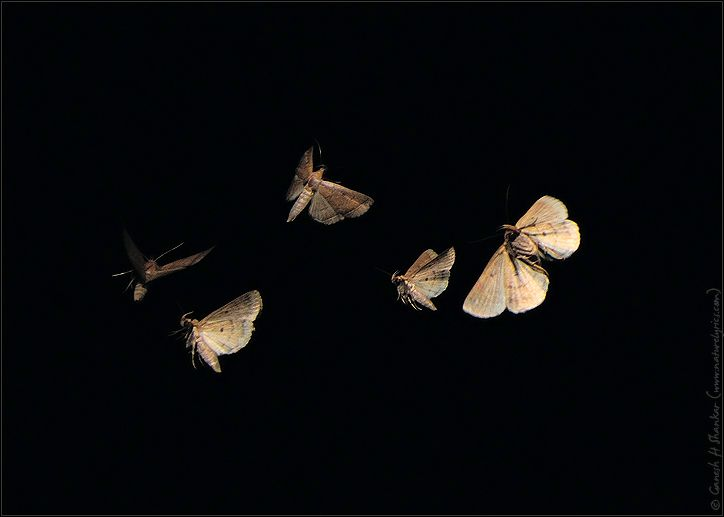insect: (461, 192, 582, 324), (105, 224, 212, 302), (277, 144, 374, 228), (168, 289, 260, 374), (389, 244, 456, 312)
